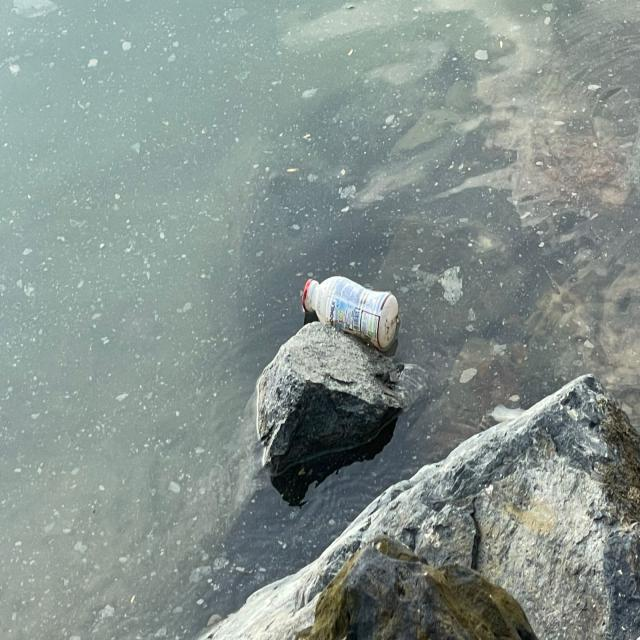Bungkus Minuman: (297, 259, 404, 348)
